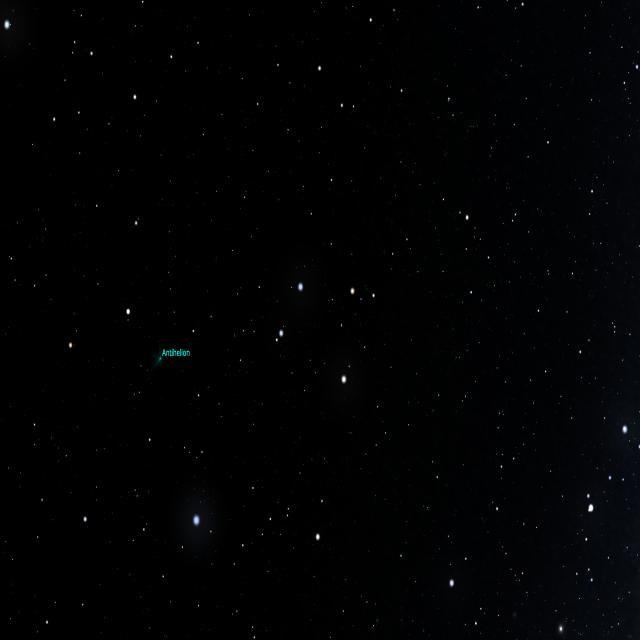Corvus: (276, 276, 380, 386)
